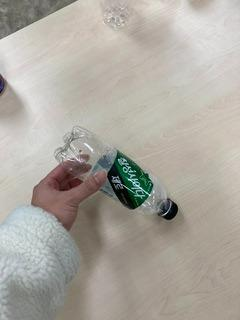BIODEGRADABLE: (52, 123, 180, 225)
